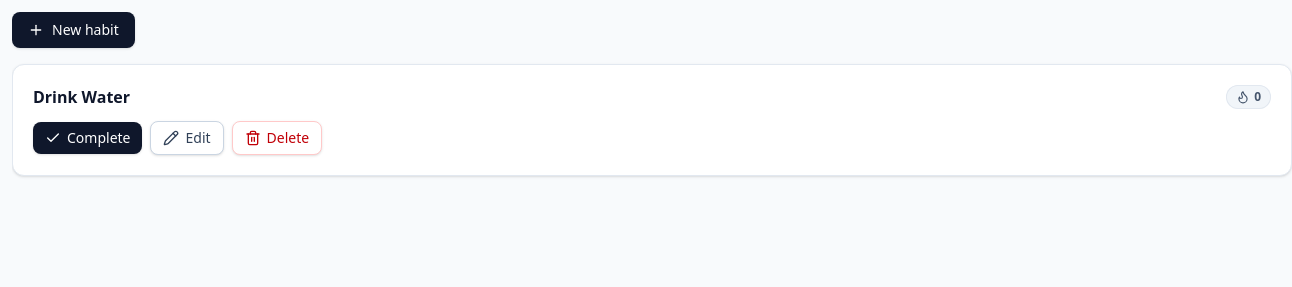
Test: habit form › deletes a habit only after explicit confirmation
The width and height of the screenshot is (1292, 287).
Click the button with test id "habit-delete-drink-water": (277,138) [232,121,322,155]
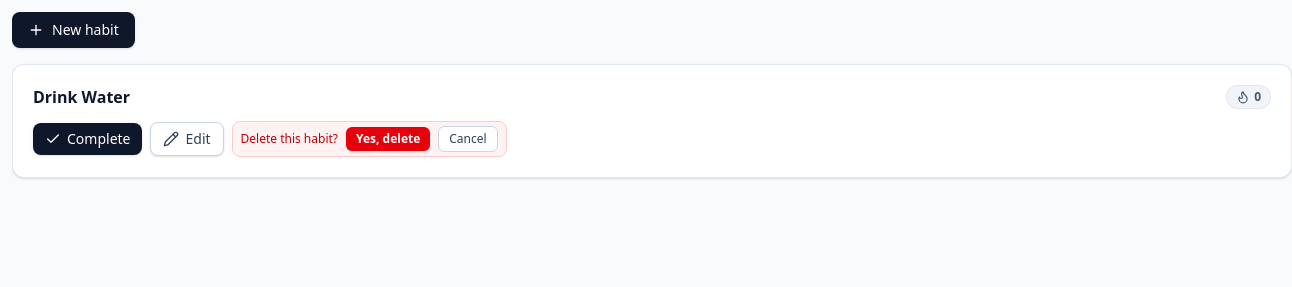
Check: the element with test id "habit-card-drink-water" is shown, box [12,64,1291,178]
Click the button with test id "confirm-delete-button": (388,139) [346,127,430,151]
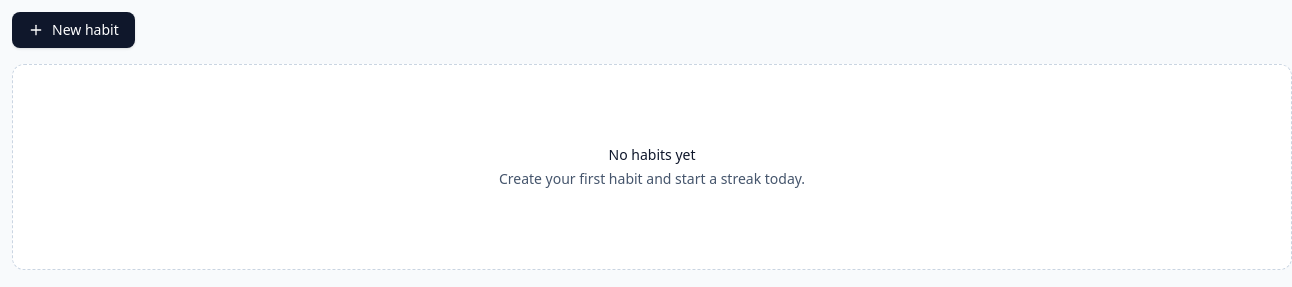
Check: the element with test id "habit-card-drink-water" is gone
Check: the element with test id "empty-state" is shown
